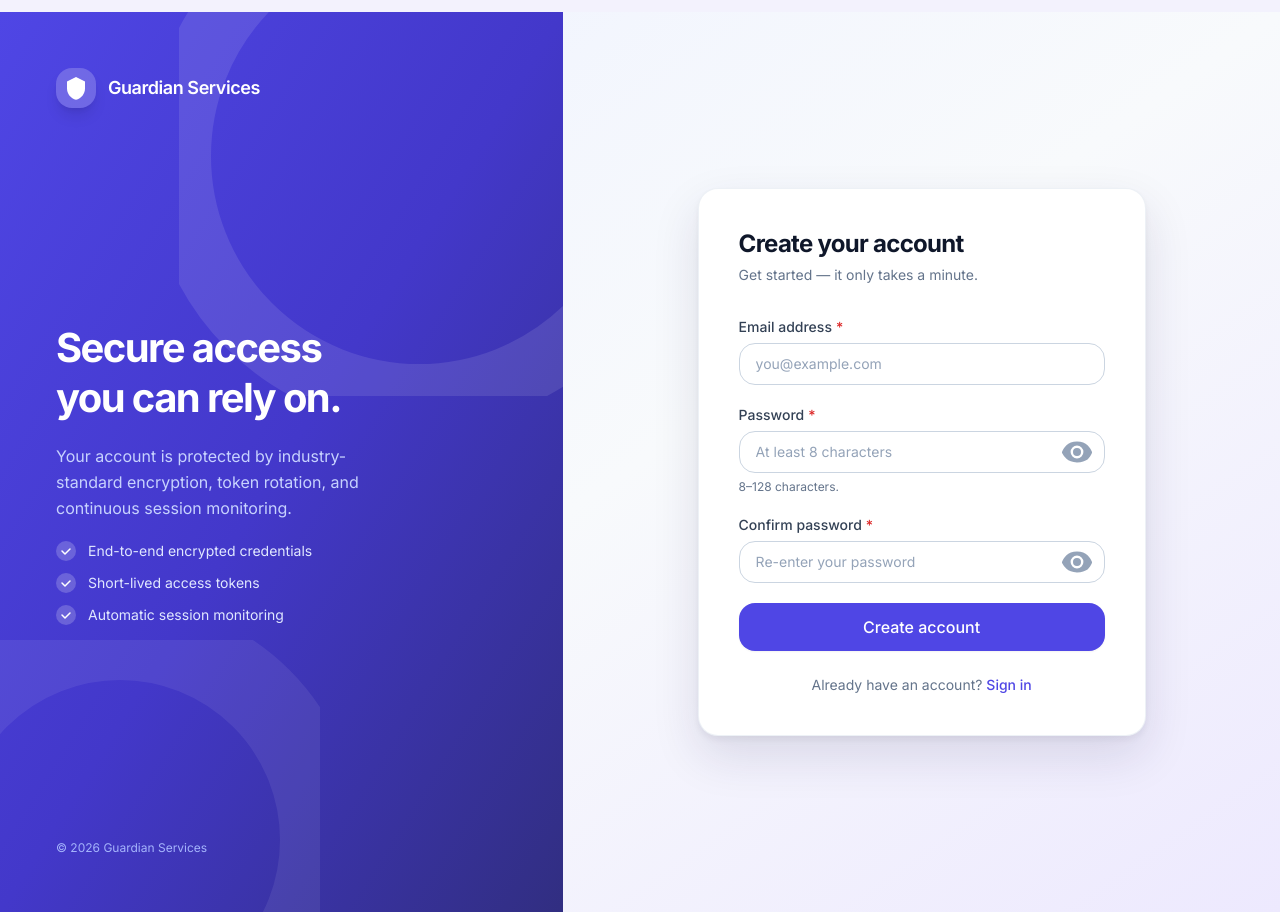
it: RegisterPage › shows validation errors on empty submit
The image size is (1280, 912).
What coordinates should you click on to do the following:
click the button "Create account"
I would click on:
 (922, 627)
Its box is [739, 603, 1105, 651].
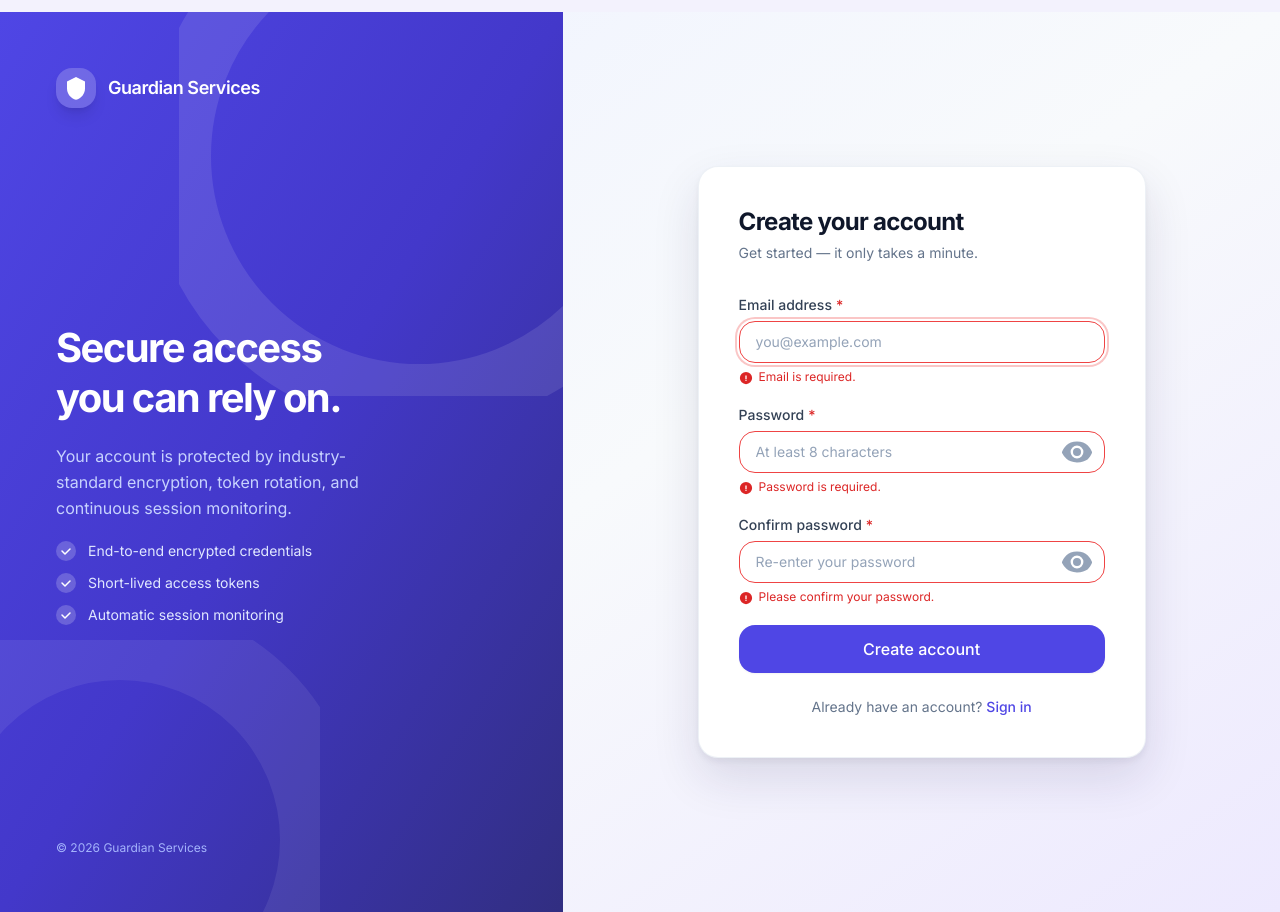
Expected: the text "Email is required." is shown, [739, 369, 856, 385]
Expected: the text "Password is required." is shown, [739, 479, 881, 495]
